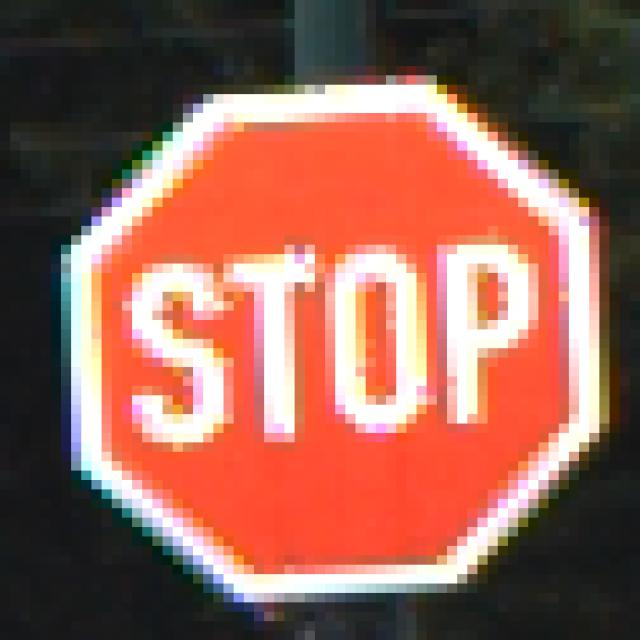STOP: (52, 58, 590, 575)
